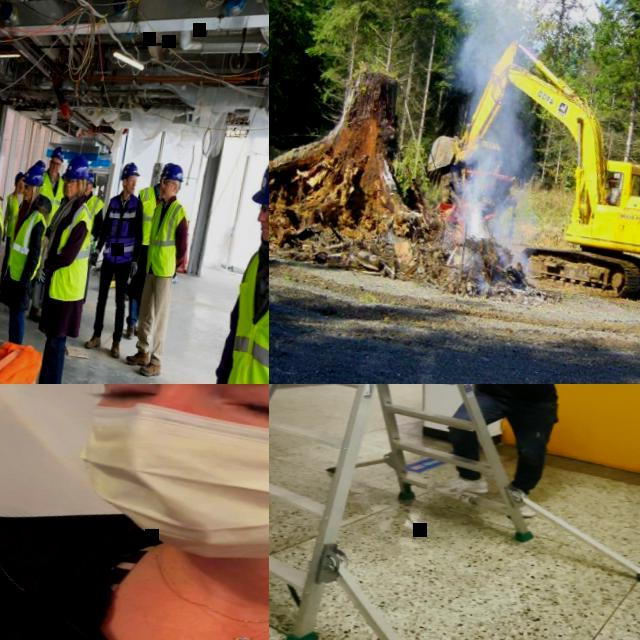helmet: (253, 142, 269, 208), (64, 151, 92, 180), (24, 162, 46, 186), (122, 160, 143, 180), (163, 162, 186, 180), (52, 145, 66, 162), (15, 170, 27, 186), (88, 170, 99, 183), (36, 158, 48, 168), (164, 161, 174, 173)
machinery: (413, 27, 640, 305)
mask: (69, 399, 269, 577)
no_mask: (261, 219, 269, 243), (66, 186, 78, 197), (162, 187, 172, 198), (126, 185, 136, 194), (50, 167, 60, 176), (24, 192, 32, 200), (85, 187, 92, 196), (22, 182, 26, 188)
no_vest: (0, 537, 269, 640), (466, 384, 559, 400)
person: (0, 384, 269, 640), (346, 384, 576, 506), (160, 134, 269, 384), (21, 150, 105, 384), (125, 160, 199, 378), (78, 156, 154, 360), (0, 161, 56, 343), (120, 159, 174, 341), (24, 144, 72, 323), (71, 170, 111, 305), (0, 169, 28, 290), (608, 176, 624, 205), (35, 158, 48, 178)
vest: (222, 246, 269, 384), (50, 199, 99, 303), (146, 195, 191, 278), (5, 207, 50, 283), (102, 190, 141, 265), (38, 171, 68, 228), (134, 183, 162, 244), (81, 194, 108, 254), (2, 192, 22, 238)
